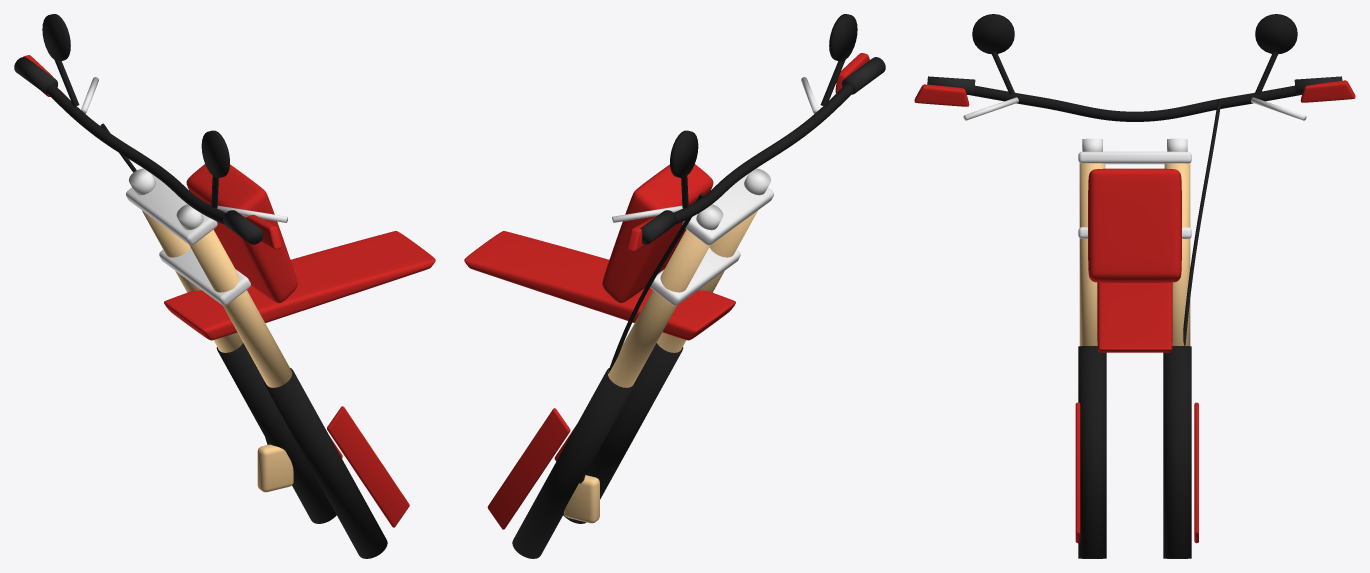
File: SM450_Sterzo.glb
3 views of the same model, side by side, from view 1: azimuth 30°, elevation 25°; view 2: azimuth 150°, elevation 25°; view 3: azimuth 270°, elevation 25° (orthographic). The views are drawn at different scales.
Parts seen in each view (by area): view 1: SM450_Sterzo; view 2: SM450_Sterzo; view 3: SM450_Sterzo.
Part boxes in pixels (x1,y1,x2,y2): SM450_Sterzo: (14, 14, 435, 558); SM450_Sterzo: (464, 14, 885, 558); SM450_Sterzo: (914, 14, 1355, 558).
Bounding box in the file's own units: 0.6235 × 1.07 × 0.9353.
